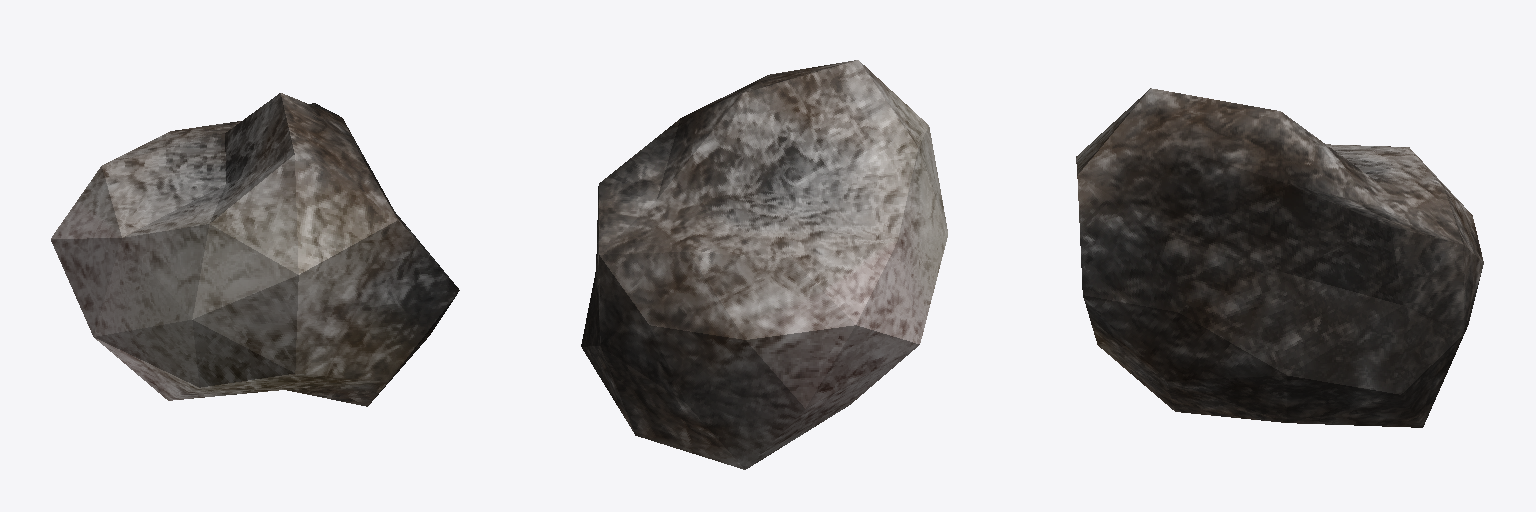
The picture shows the model from 3 angles: view 1: azimuth 30°, elevation 25°; view 2: azimuth 150°, elevation 25°; view 3: azimuth 270°, elevation 25°; orthographic projection.
Bounding box in the file's own units: 3.44 × 3.28 × 3.87.
Materials: 1 (1 with a texture image).